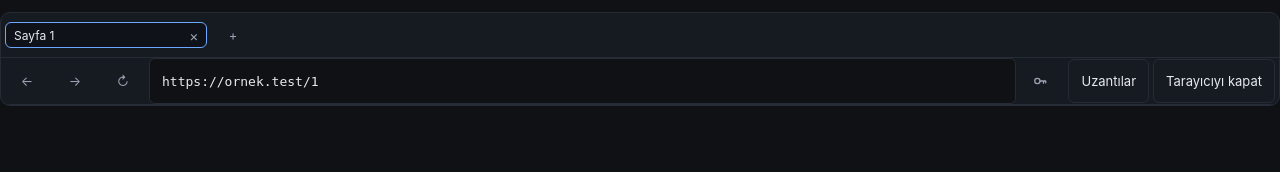
BrowserTabsPanel: tab strip › closing the last tab leaves the engine's blank tab in the strip
Click the button named "Sekmeyi kapat: Sayfa 1". click: click(194, 35)
box: [182,23,206,47]
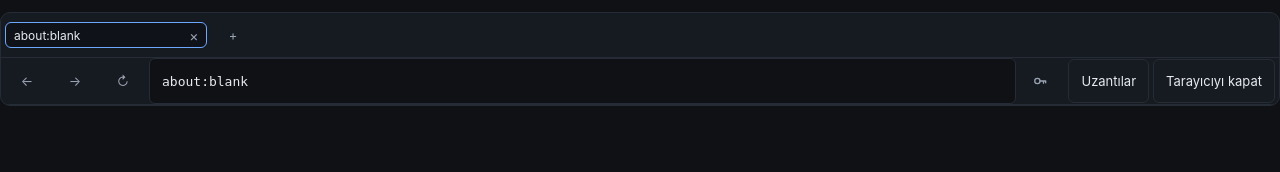
Result: the buttons read "about:blank", in this order at [6,23,182,47]
